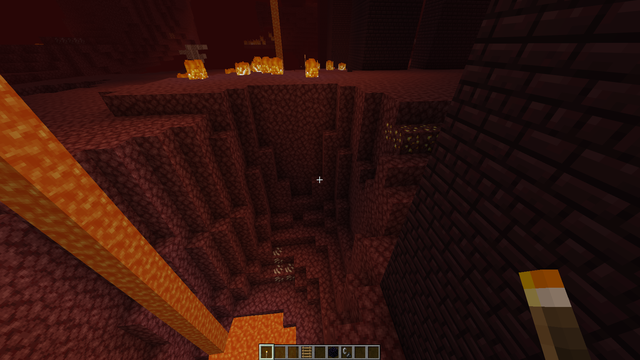nethergold: (382, 119, 442, 153)
quartz: (270, 246, 295, 283)
